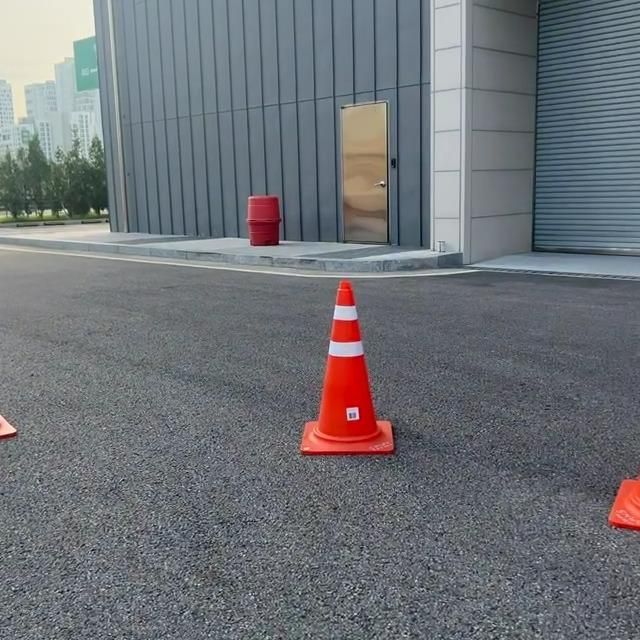fallen_object: (260, 279, 410, 462)
